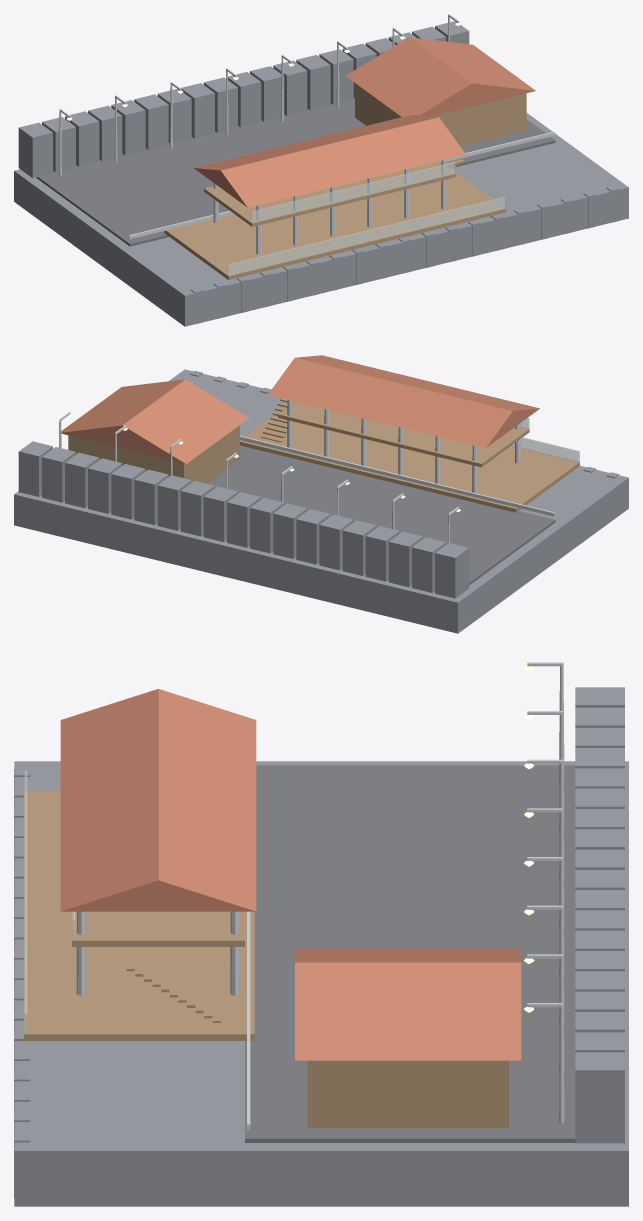
The model's file is lm_60_deo_prenn_mimosa_scenic_overlook_and_pine_rest_stop_kit.glb.
3 renders of one model, top to bottom at view 1: azimuth 30°, elevation 25°; view 2: azimuth 150°, elevation 25°; view 3: azimuth 270°, elevation 25°, orthographic. The views are drawn at different scales.
Visible parts, largest first — view 1: lm_60_deo_prenn_mimosa_scenic_overlook_and_pine_rest_stop_ki; view 2: lm_60_deo_prenn_mimosa_scenic_overlook_and_pine_rest_stop_ki; view 3: lm_60_deo_prenn_mimosa_scenic_overlook_and_pine_rest_stop_ki.
Boxes of the visible parts, x1,y1,x2,y2 form: lm_60_deo_prenn_mimosa_scenic_overlook_and_pine_rest_stop_ki: [14, 14, 628, 326]; lm_60_deo_prenn_mimosa_scenic_overlook_and_pine_rest_stop_ki: [14, 355, 628, 633]; lm_60_deo_prenn_mimosa_scenic_overlook_and_pine_rest_stop_ki: [14, 662, 628, 1206].
Bounding box in the file's own units: 48 × 11.2 × 32.03.
